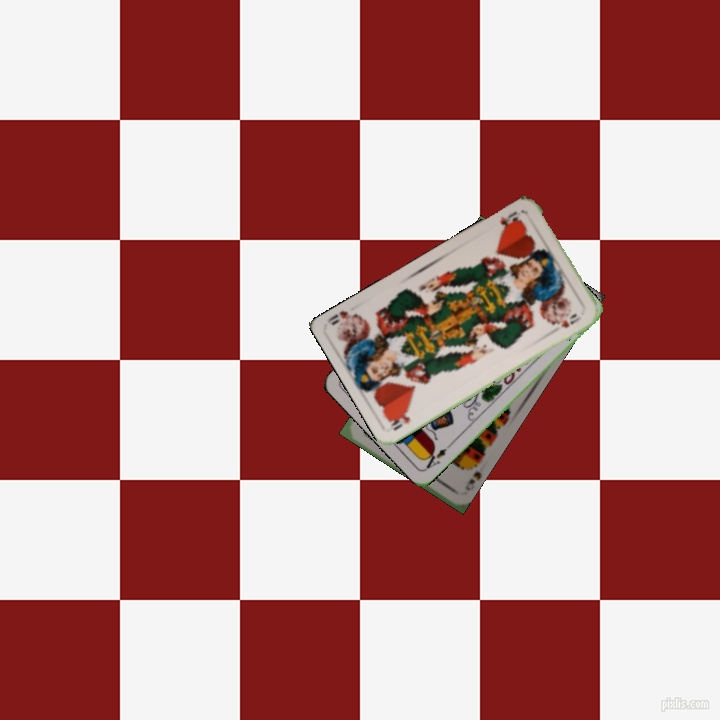EA: (419, 440, 454, 472)
HO: (496, 207, 524, 234), (385, 407, 413, 433)
S9: (461, 456, 482, 494)
